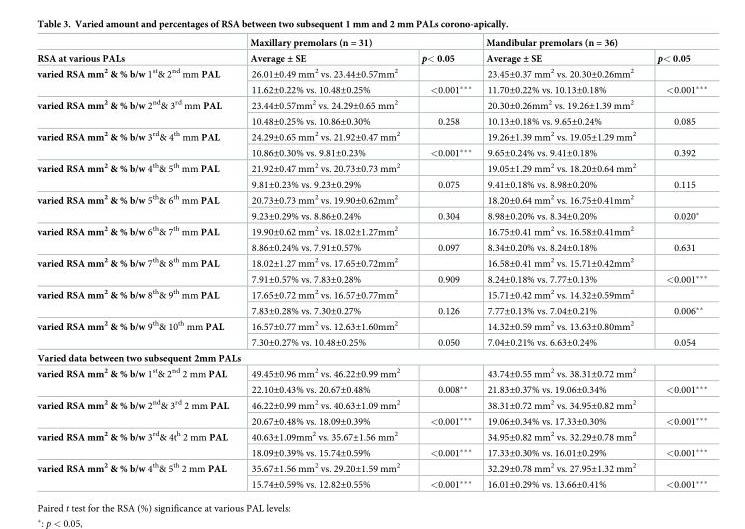table: (36, 37, 706, 490)
table column: (36, 37, 238, 490), (238, 37, 410, 490), (478, 37, 646, 490), (410, 37, 478, 490), (646, 37, 706, 490)
table column header: (36, 37, 706, 65)
table projected row header: (36, 350, 706, 364)
table row: (36, 364, 706, 381), (36, 49, 706, 65), (36, 65, 706, 81), (36, 81, 706, 97), (36, 97, 706, 113), (36, 128, 706, 144), (36, 144, 706, 160), (36, 160, 706, 176), (36, 191, 706, 207), (36, 207, 706, 223), (36, 223, 706, 239), (36, 239, 706, 255), (36, 270, 706, 286), (36, 286, 706, 302), (36, 302, 706, 318), (36, 318, 706, 334), (36, 334, 706, 350), (36, 381, 706, 397), (36, 412, 706, 428), (36, 428, 706, 444), (36, 444, 706, 460), (36, 460, 706, 476), (36, 113, 706, 128), (36, 176, 706, 191), (36, 255, 706, 270), (36, 397, 706, 412), (36, 350, 706, 364), (36, 476, 706, 490), (36, 37, 706, 49)
table spanning cell: (36, 364, 238, 397), (36, 65, 238, 97), (36, 128, 238, 160), (36, 191, 238, 223), (36, 223, 238, 255), (36, 286, 238, 318), (36, 318, 238, 350), (36, 428, 238, 460), (36, 97, 238, 128), (36, 160, 238, 191), (36, 255, 238, 286), (36, 397, 238, 428), (36, 460, 238, 490), (36, 37, 238, 65), (238, 37, 478, 49), (478, 37, 706, 49)
